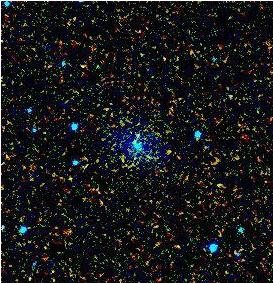star: (154, 135, 184, 165)
